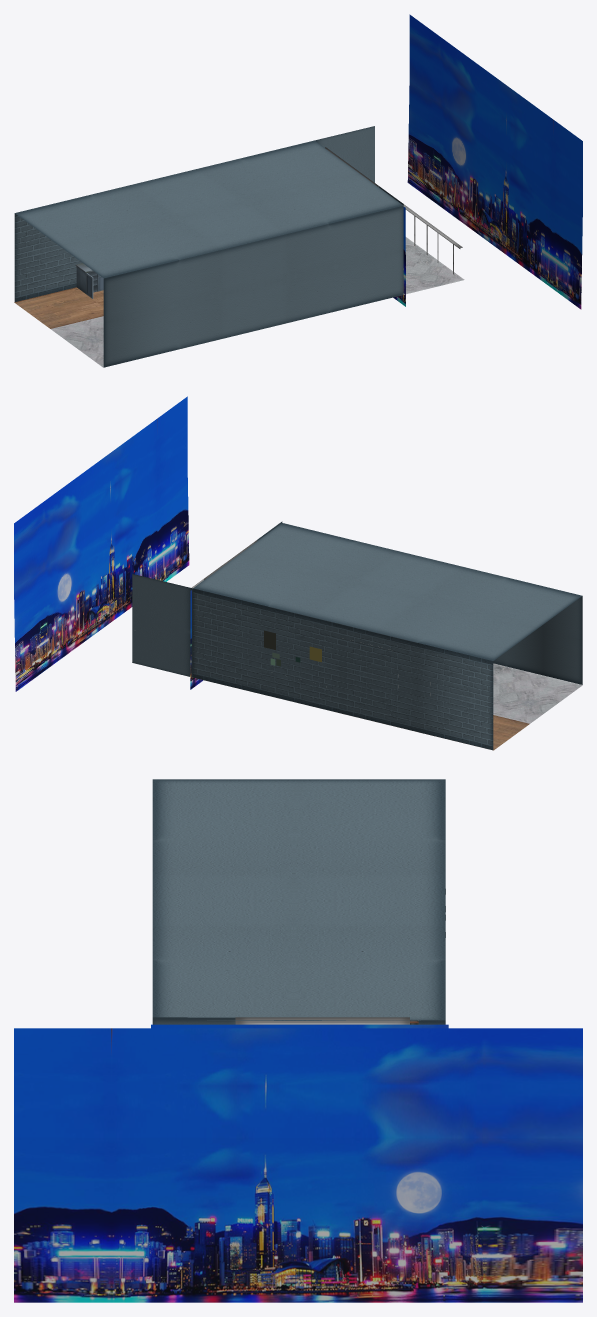
File: TouKuiZheJia_01.FBX
3 views of the same model, one above another, from view 1: azimuth 30°, elevation 25°; view 2: azimuth 150°, elevation 25°; view 3: azimuth 270°, elevation 25° (orthographic). The views are drawn at different scales.
Visible parts, largest first — view 1: TouKuiZheJia_huanjing_05, Plane001, TouKuiZheJia_huanjing_04, TouKuiZheJia_huanjing_01; view 2: TouKuiZheJia_huanjing_05, Plane001, TouKuiZheJia_huanjing_04; view 3: Plane001, TouKuiZheJia_huanjing_05, Plane002.
Boxes of the visible parts, bbox=[...] form: TouKuiZheJia_huanjing_05: bbox=[14, 126, 462, 367]; Plane001: bbox=[407, 14, 582, 309]; TouKuiZheJia_huanjing_04: bbox=[14, 237, 464, 367]; TouKuiZheJia_huanjing_01: bbox=[75, 263, 103, 298]; TouKuiZheJia_huanjing_05: bbox=[132, 521, 582, 750]; Plane001: bbox=[14, 396, 189, 691]; TouKuiZheJia_huanjing_04: bbox=[132, 662, 582, 750]; Plane001: bbox=[14, 1028, 582, 1302]; TouKuiZheJia_huanjing_05: bbox=[152, 779, 445, 1024]; Plane002: bbox=[151, 1024, 448, 1028].
Size of the model in its own units: 8744 by 3211 by 6004.
